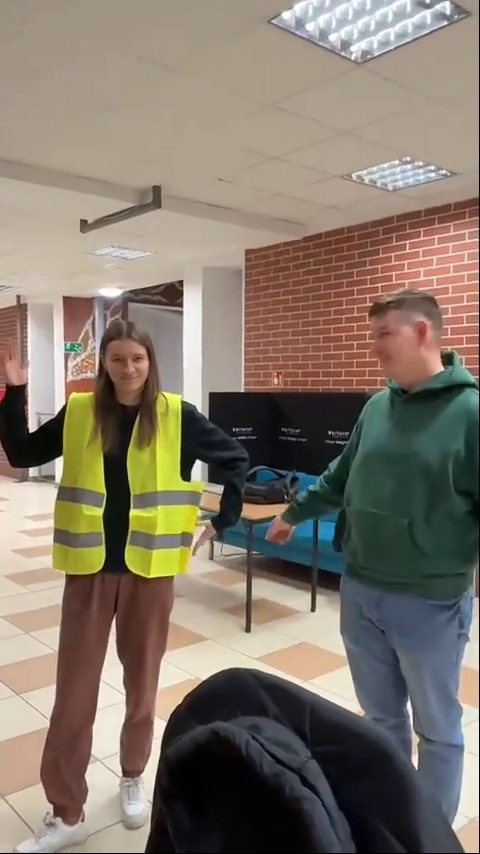no vest: (292, 295, 479, 823)
vest: (0, 311, 246, 820)
